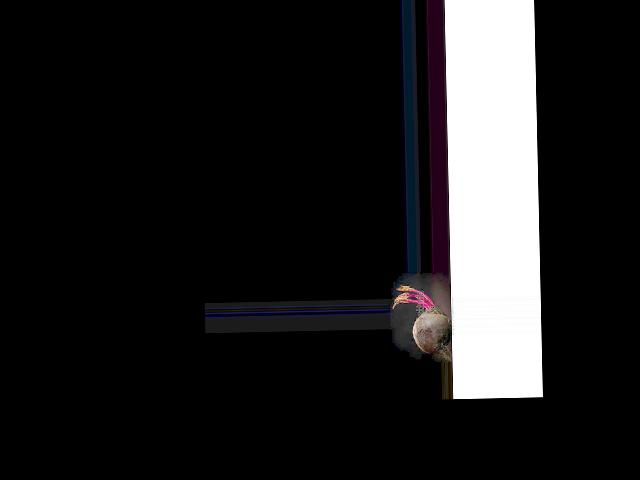beet: (392, 284, 452, 364)
